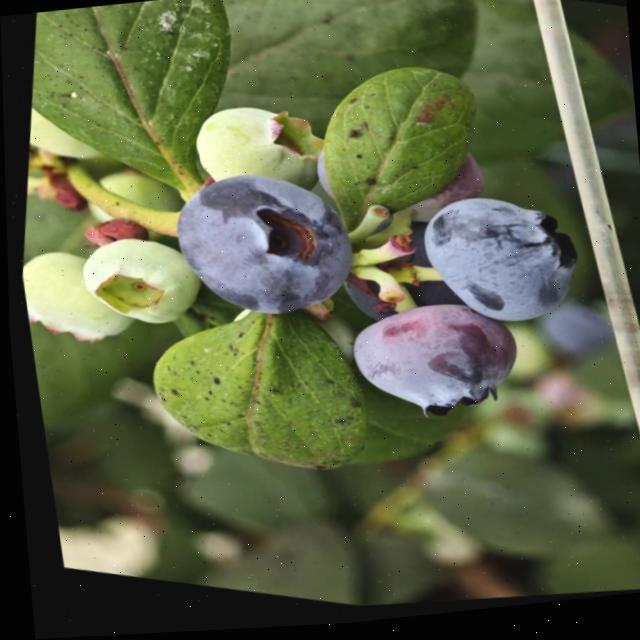RipeBlueBerry: (147, 150, 372, 352), (398, 179, 594, 353)
Semi-RipeBlueBerry: (325, 279, 529, 455)
UnripeBlueBerry: (67, 226, 210, 349), (182, 94, 329, 213), (14, 241, 141, 365)
